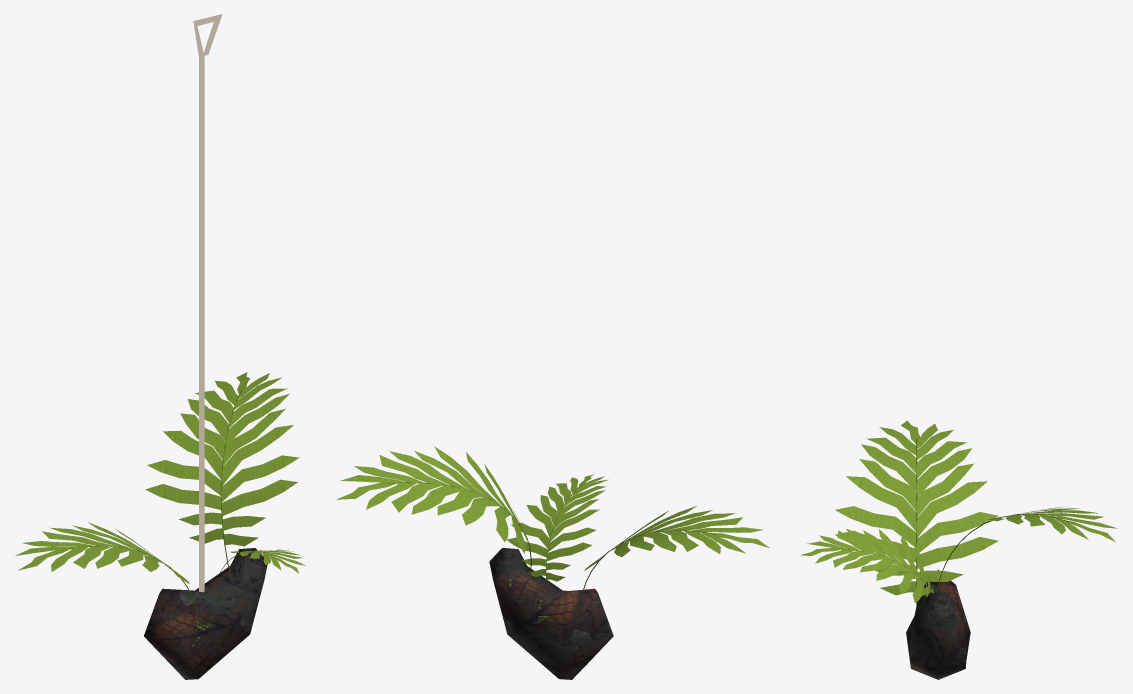
Rendered from cay-tac-ke-da.glb.
3 renders of one model, left to right at view 1: azimuth 30°, elevation 25°; view 2: azimuth 150°, elevation 25°; view 3: azimuth 270°, elevation 25°, orthographic.
Parts seen in each view (by area): view 1: Tac_Ke_Da; view 2: Tac_Ke_Da; view 3: Tac_Ke_Da.
Boxes of the visible parts, x1,y1,x2,y2 form: Tac_Ke_Da: (15, 14, 305, 679); Tac_Ke_Da: (336, 446, 769, 679); Tac_Ke_Da: (800, 420, 1117, 679).
Bounding box in the file's own units: 0.3952 × 0.7259 × 0.3134.
1 material, 1 textured.
